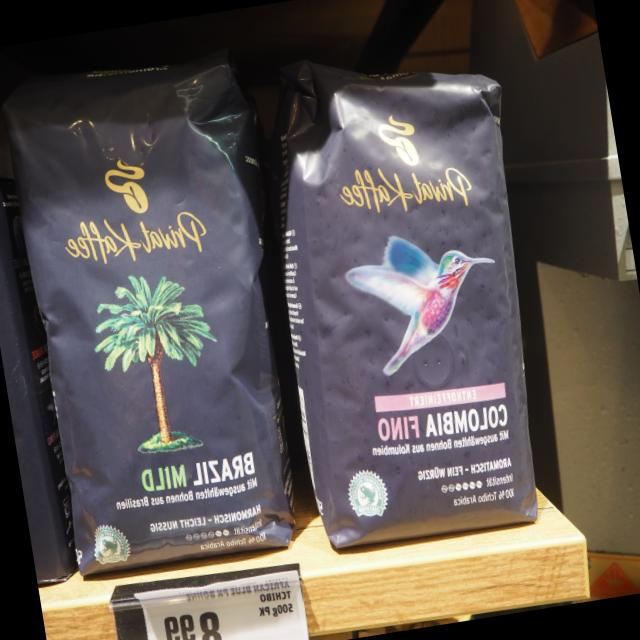BM Bohne: (0, 44, 306, 585)
C Fino Bohne: (260, 58, 546, 554)
